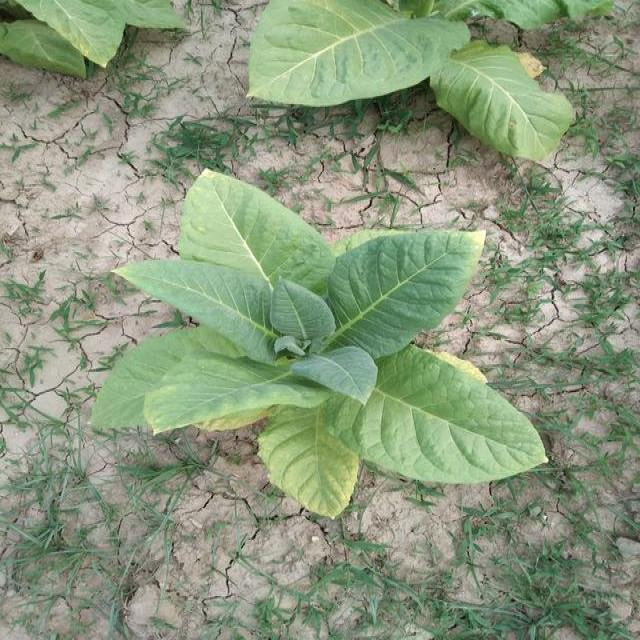crop: (100, 168, 547, 530), (238, 0, 639, 159), (0, 0, 174, 77)
